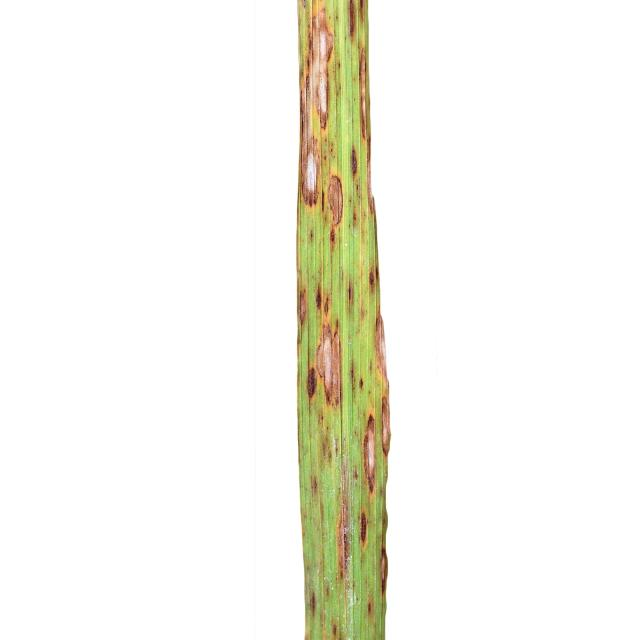Leaf blast: (242, 0, 468, 640)
